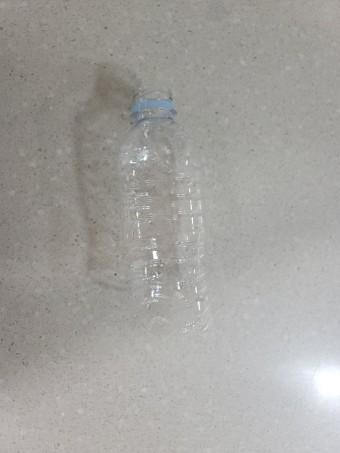bottle: (112, 85, 201, 309)
